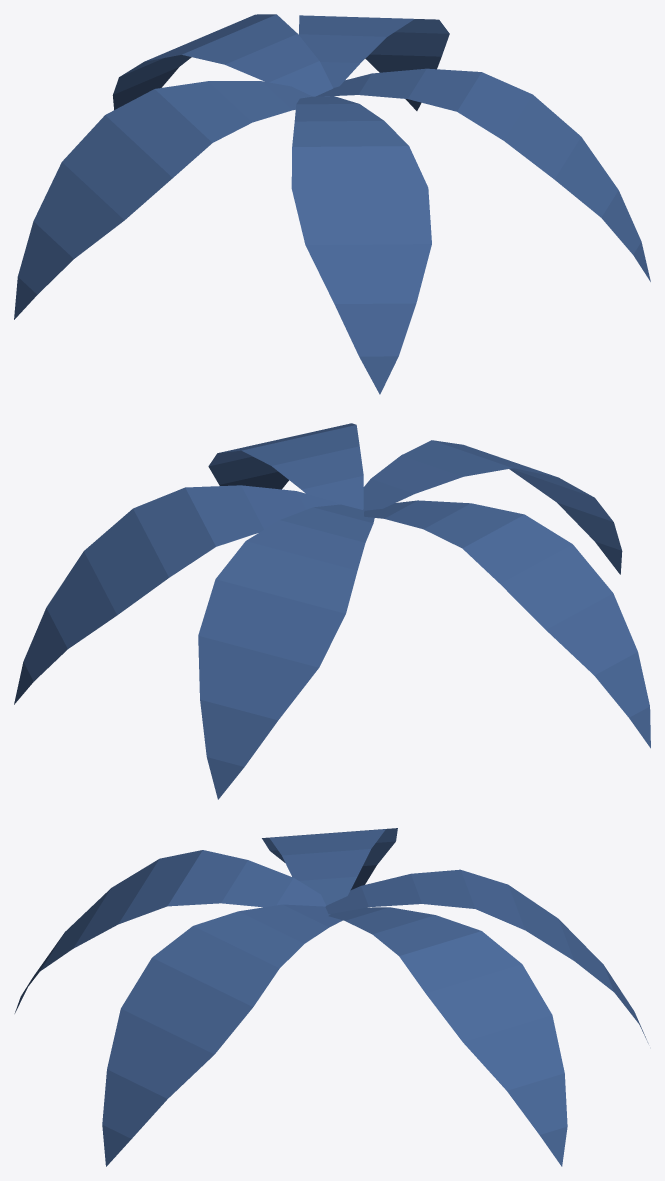
File: tree-winter-leaves-034.glb
The picture shows the model from 3 angles, top to bottom: view 1: azimuth 30°, elevation 25°; view 2: azimuth 150°, elevation 25°; view 3: azimuth 270°, elevation 25°; orthographic projection. The views are drawn at different scales.
Parts seen in each view (by area): view 1: Plane.056_171; view 2: Plane.056_171; view 3: Plane.056_171.
Boxes of the visible parts, x1=… form: Plane.056_171: x1=14, y1=14, x2=650, y2=394; Plane.056_171: x1=14, y1=423, x2=650, y2=799; Plane.056_171: x1=14, y1=828, x2=648, y2=1166.
Size of the model in its own units: 1.37 by 0.4432 by 1.49.
